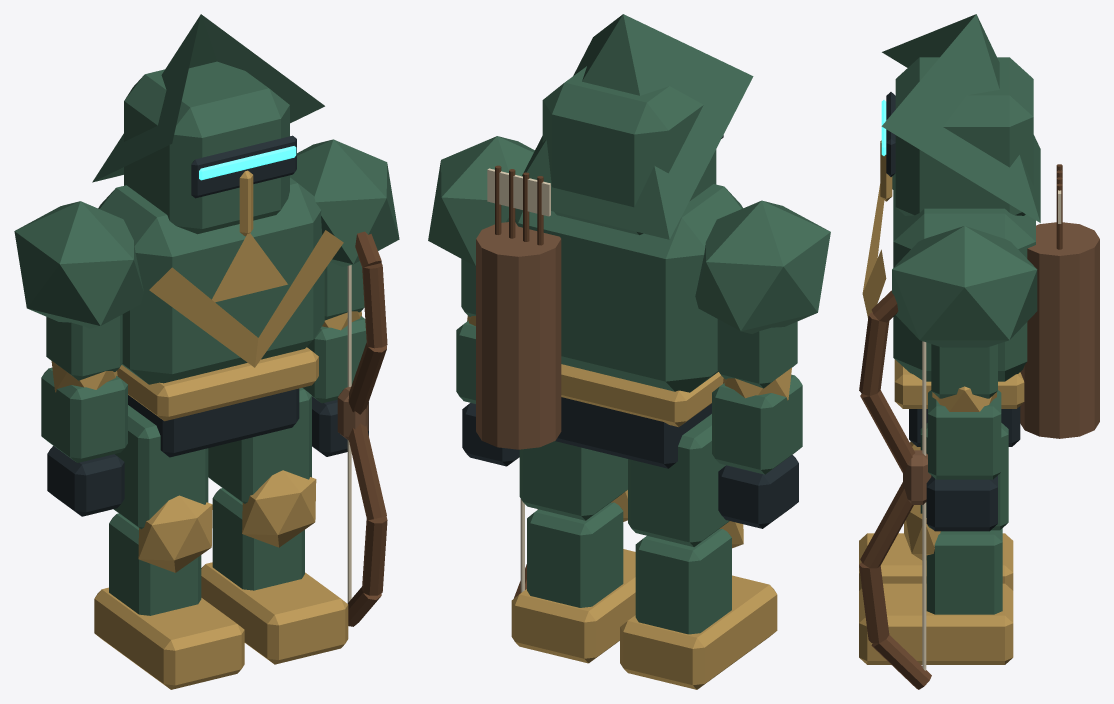
Rendered from field-archer.glb.
The picture shows the model from 3 angles, left to right: view 1: azimuth 30°, elevation 25°; view 2: azimuth 150°, elevation 25°; view 3: azimuth 270°, elevation 25°; orthographic projection. The views are drawn at different scales.
Parts seen in each view (by area): view 1: SentinelBreastplate, SentinelHelmet, SentinelShoulder, SentinelBoot, SentinelBoot.001, SentinelShoulder.001, Ranger hood, SentinelBelt, SentinelForearm, SentinelChest chevron, SentinelThigh, SentinelWaist (+23 smaller); view 2: SentinelBreastplate, Archer quiver, Ranger hood, SentinelHelmet, SentinelShoulder, SentinelBoot, SentinelShin.001, SentinelShin, SentinelThigh, SentinelShoulder.001, SentinelBoot.001, SentinelForearm (+10 smaller); view 3: Archer quiver, SentinelShoulder.001, Ranger hood, SentinelHelmet, SentinelBoot.001, SentinelBreastplate, SentinelShin.001, SentinelForearm.001, SentinelFist.001, SentinelUpper arm.001, SentinelBoot, SentinelBelt (+15 smaller).
Boxes of the visible parts, bbox=[...] form: SentinelBreastplate: bbox=[98, 177, 324, 384]; SentinelHelmet: bbox=[124, 61, 289, 234]; SentinelShoulder: bbox=[14, 201, 143, 328]; SentinelBoot: bbox=[94, 587, 244, 689]; SentinelBoot.001: bbox=[201, 562, 348, 664]; SentinelShoulder.001: bbox=[290, 139, 399, 266]; Ranger hood: bbox=[92, 14, 324, 182]; SentinelBelt: bbox=[117, 347, 318, 421]; SentinelForearm: bbox=[41, 367, 127, 462]; SentinelChest chevron: bbox=[149, 230, 343, 367]; SentinelThigh: bbox=[113, 405, 208, 529]; SentinelWaist: bbox=[128, 388, 299, 457]; SentinelBreastplate: bbox=[515, 184, 742, 392]; Archer quiver: bbox=[476, 222, 561, 449]; Ranger hood: bbox=[522, 14, 753, 239]; SentinelHelmet: bbox=[542, 66, 716, 235]; SentinelShoulder: bbox=[695, 200, 830, 333]; SentinelBoot: bbox=[620, 575, 777, 689]; SentinelShin.001: bbox=[527, 502, 623, 607]; SentinelShin: bbox=[635, 529, 731, 634]; SentinelThigh: bbox=[628, 414, 729, 546]; SentinelShoulder.001: bbox=[428, 136, 534, 266]; SentinelBoot.001: bbox=[511, 549, 635, 663]; SentinelForearm: bbox=[712, 374, 802, 474]; Archer quiver: bbox=[1020, 222, 1099, 438]; SentinelShoulder.001: bbox=[892, 226, 1037, 347]; Ranger hood: bbox=[881, 14, 1040, 222]; SentinelHelmet: bbox=[895, 57, 1033, 215]; SentinelBoot.001: bbox=[859, 583, 1013, 664]; SentinelBreastplate: bbox=[893, 173, 1035, 381]; SentinelShin.001: bbox=[926, 528, 1002, 614]; SentinelForearm.001: bbox=[928, 390, 1001, 479]; SentinelFist.001: bbox=[926, 475, 997, 531]; SentinelUpper arm.001: bbox=[931, 344, 997, 398]; SentinelBoot: bbox=[859, 533, 1013, 590]; SentinelBelt: bbox=[894, 359, 1024, 408].
Bounding box in the file's own units: 1.56 × 2.57 × 0.9135.
